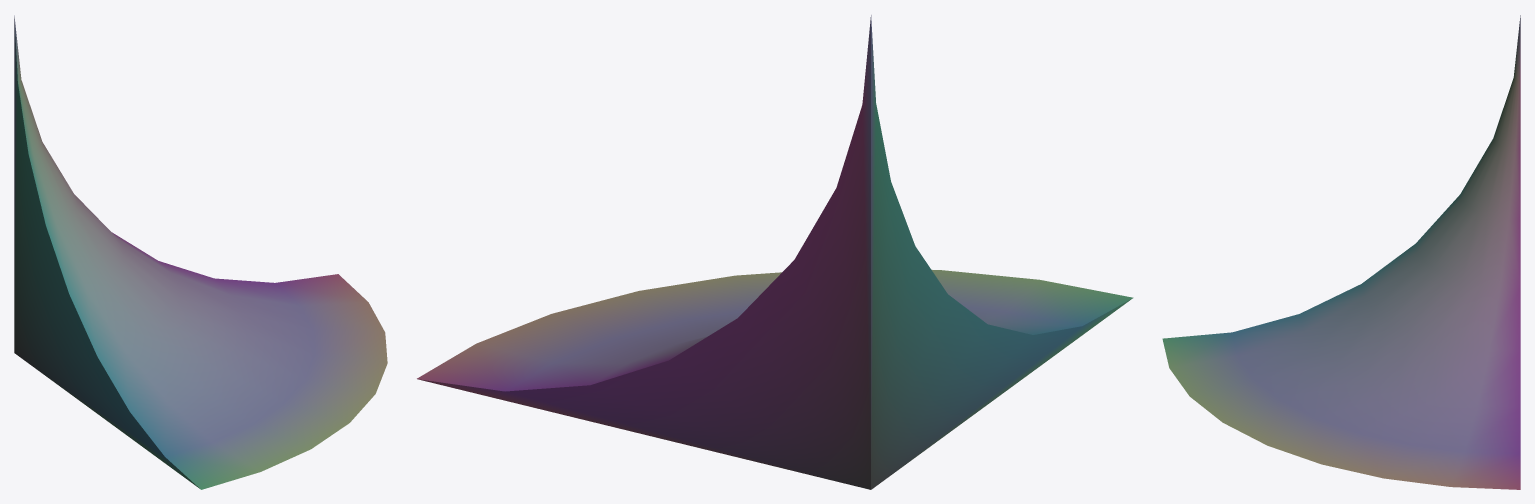
The model's file is SM_ScalableCornerRoundedN_Medium.gltf.
The picture shows the model from 3 angles, left to right: view 1: azimuth 30°, elevation 25°; view 2: azimuth 150°, elevation 25°; view 3: azimuth 270°, elevation 25°; orthographic projection. The views are drawn at different scales.
Parts seen in each view (by area): view 1: SM_ScalableCornerRoundedN_Medium; view 2: SM_ScalableCornerRoundedN_Medium; view 3: SM_ScalableCornerRoundedN_Medium.
Boxes of the visible parts, x1,y1,x2,y2 form: SM_ScalableCornerRoundedN_Medium: (14, 15, 387, 489); SM_ScalableCornerRoundedN_Medium: (417, 15, 1133, 489); SM_ScalableCornerRoundedN_Medium: (1162, 15, 1520, 489).
Size of the model in its own units: 0.3 by 0.3 by 0.3.
